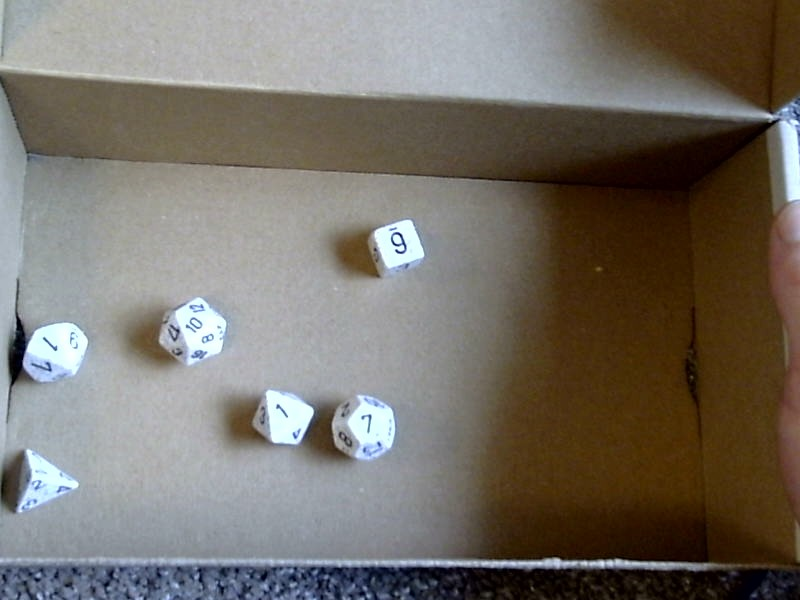d10 1: (16, 309, 94, 394)
d12 7: (328, 389, 400, 467)
d20 10: (150, 290, 230, 369)
d4 2: (6, 437, 84, 520)
d6 6: (355, 209, 437, 283)
d8 1: (250, 381, 318, 452)
